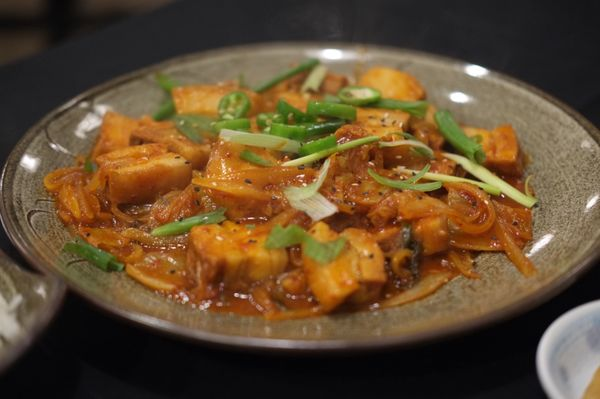sushi: (535, 298, 600, 398)
